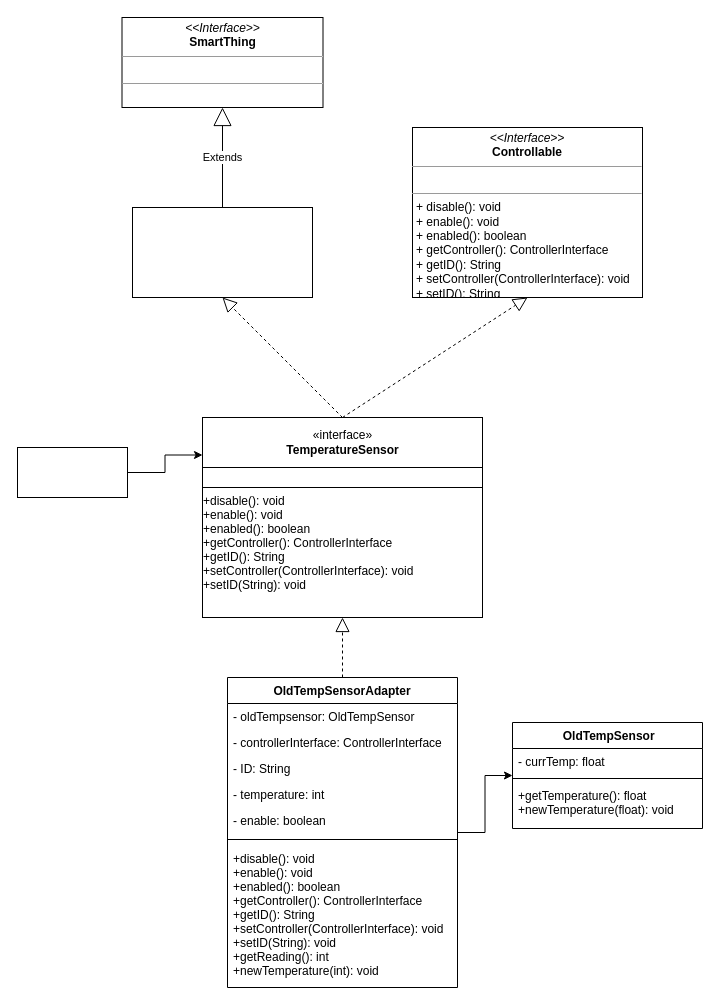
This 720x1008 diagram has some shape labels left out. The centre of each missing label's shape, as x and y in pixels:
<<Interface>> NumericMeasurementInstrument + getReading(): int: point 222,252
Main: point 72,472
